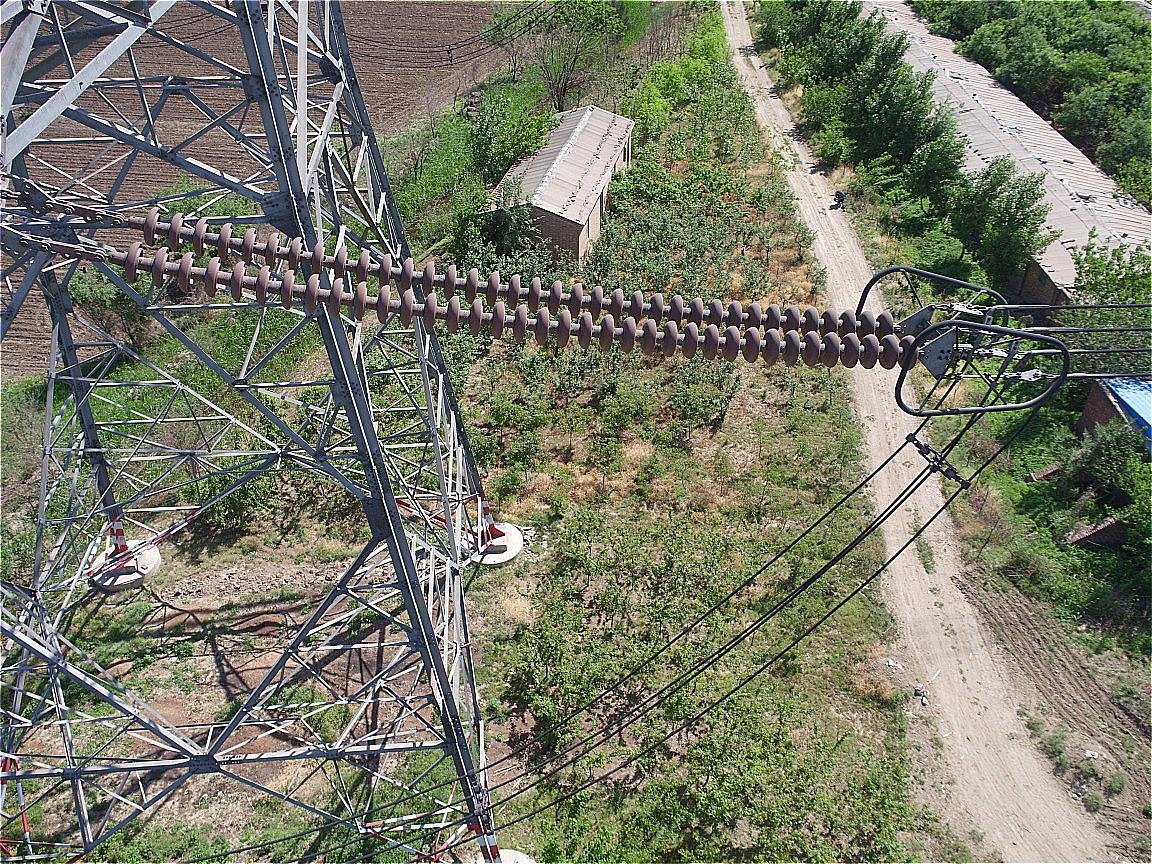insultor1: (128, 209, 921, 370)
